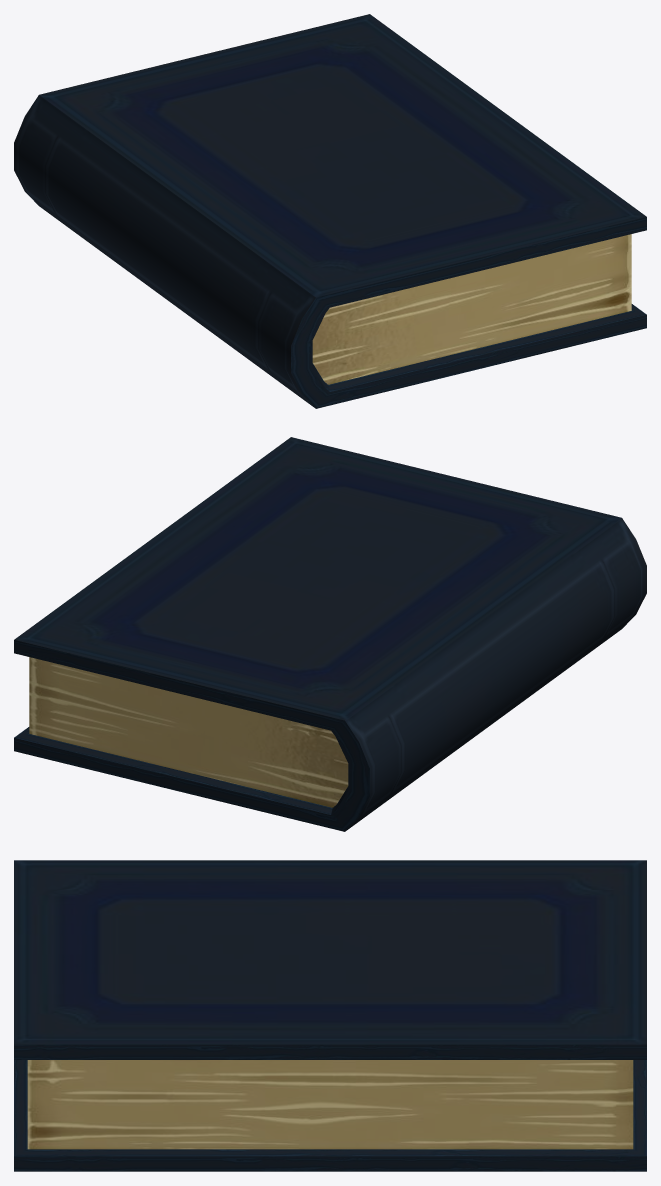
Rendered from book_5.gltf.
3 views of the same model, one above another, from view 1: azimuth 30°, elevation 25°; view 2: azimuth 150°, elevation 25°; view 3: azimuth 270°, elevation 25° (orthographic). The views are drawn at different scales.
Parts seen in each view (by area): view 1: Book_5; view 2: Book_5; view 3: Book_5.
Boxes of the visible parts, box(x1,y1,x2,y2) form: Book_5: box(14, 14, 646, 408); Book_5: box(14, 437, 646, 831); Book_5: box(14, 860, 646, 1171).
Bounding box in the file's own units: 0.2129 × 0.0636 × 0.2871.
Materials: 1 (1 with a texture image).
